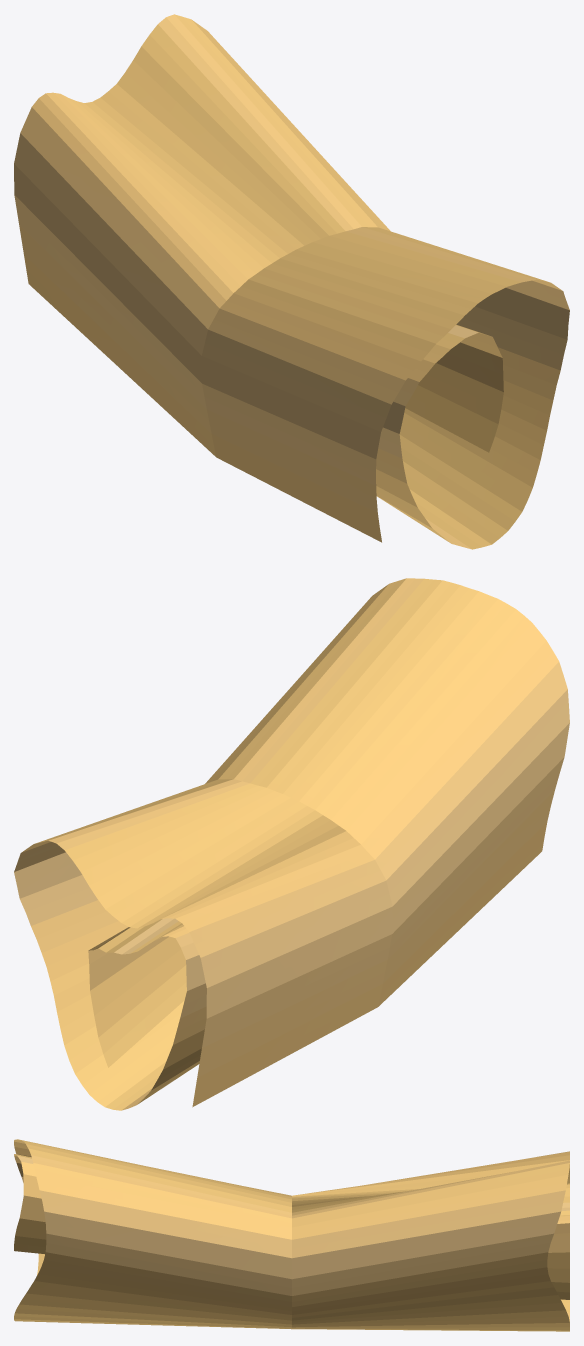
Rendered from maze piece scroll wizards table clutterT1.fbx.
The picture shows the model from 3 angles, top to bottom: view 1: azimuth 30°, elevation 25°; view 2: azimuth 150°, elevation 25°; view 3: azimuth 270°, elevation 25°; orthographic projection. The views are drawn at different scales.
Parts seen in each view (by area): view 1: FrMaz Scroll; view 2: FrMaz Scroll; view 3: FrMaz Scroll.
Boxes of the visible parts, x1,y1,x2,y2 form: FrMaz Scroll: (14,14,569,549); FrMaz Scroll: (14,578,569,1110); FrMaz Scroll: (14,1139,569,1331).
Size of the model in its own units: 581 by 757 by 1883.
